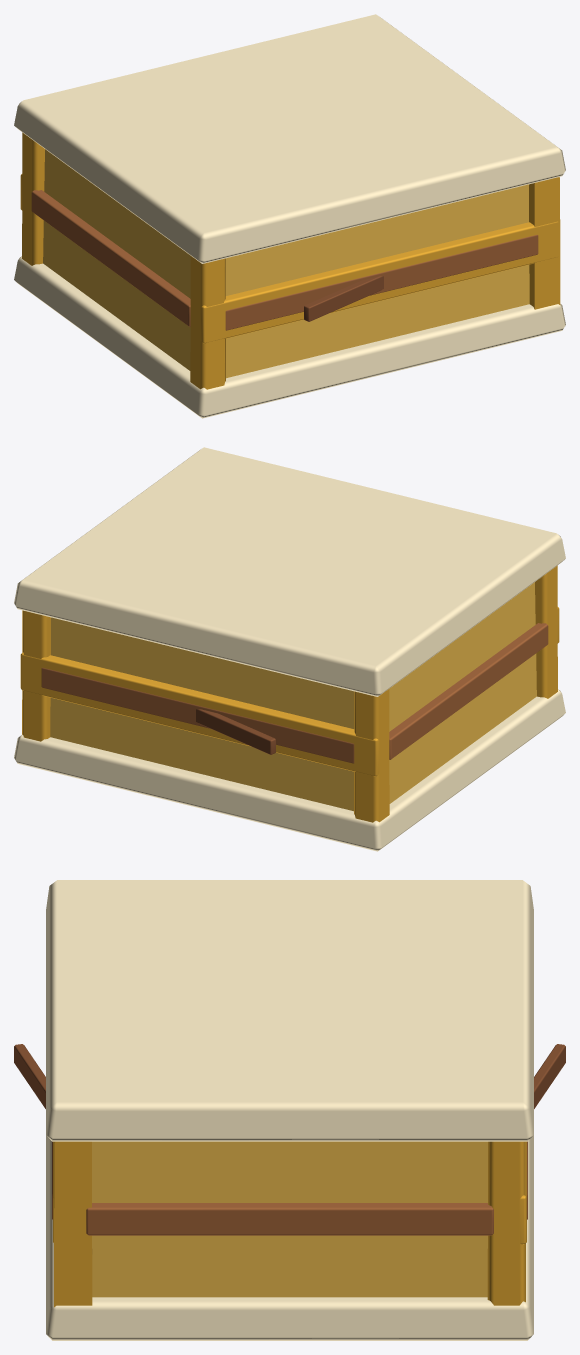
File: b_crate_low.glb
3 renders of one model, top to bottom at view 1: azimuth 30°, elevation 25°; view 2: azimuth 150°, elevation 25°; view 3: azimuth 270°, elevation 25°, orthographic. The views are drawn at different scales.
Visible parts, largest first — view 1: b_crate_low; view 2: b_crate_low; view 3: b_crate_low.
Part boxes in pixels (box(x1,y1,x2,y2)): b_crate_low: box(14, 14, 565, 418); b_crate_low: box(14, 447, 565, 851); b_crate_low: box(14, 880, 565, 1340).
Bounding box in the file's own units: 1.92 × 0.915 × 1.93.
